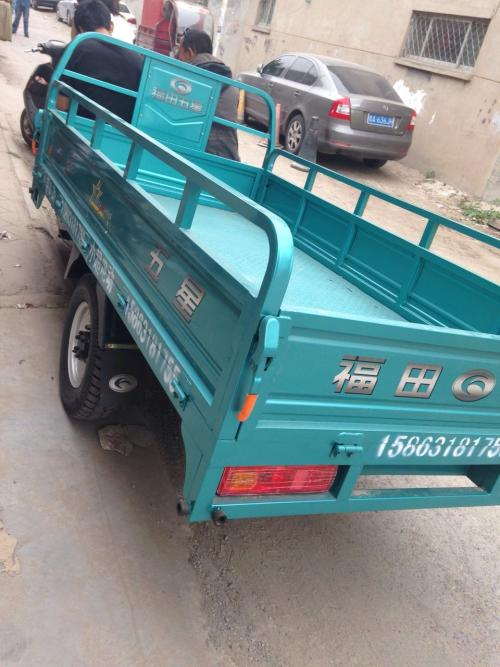tricycle: (34, 44, 500, 514)
